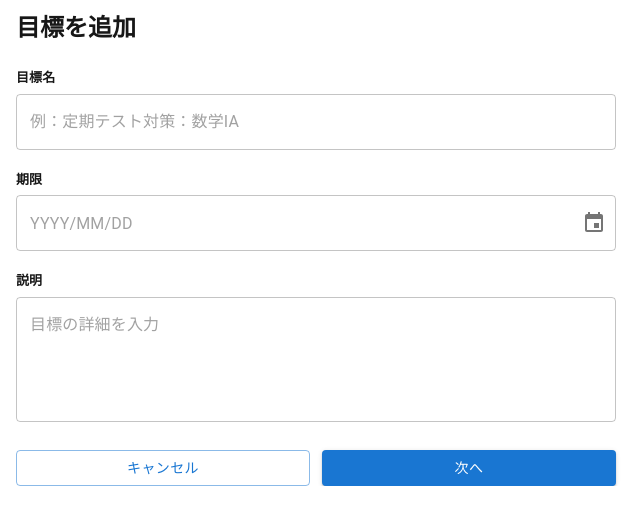
Test case: CreateGoal › 目標名のみ入力して送信すると期限のエラーだけが残る
The width and height of the screenshot is (634, 526).
In the field: (316, 122) [16,94,616,150], type "英単語1000語を覚える"
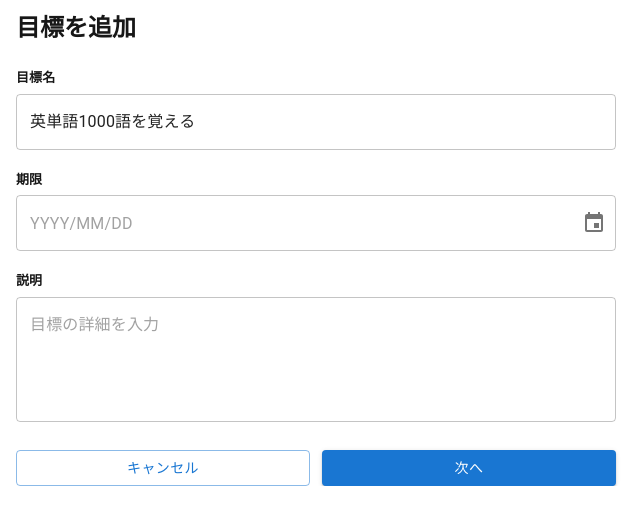
Click the button "次へ": click(469, 468) [322,450,616,486]
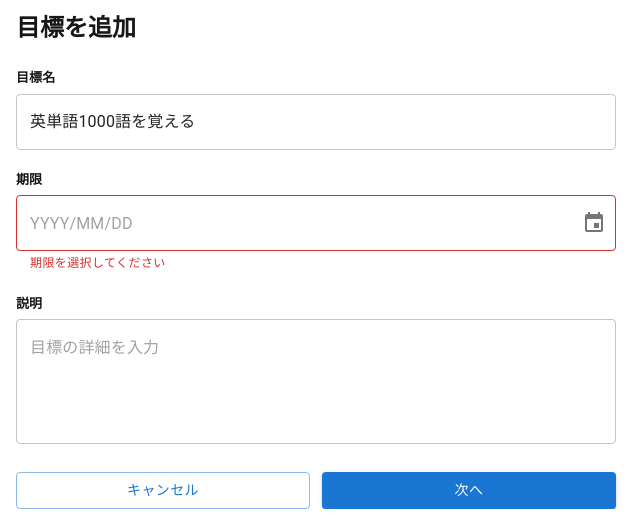
Check: the text "期限を選択してください" is shown, box [30,256,166,270]
